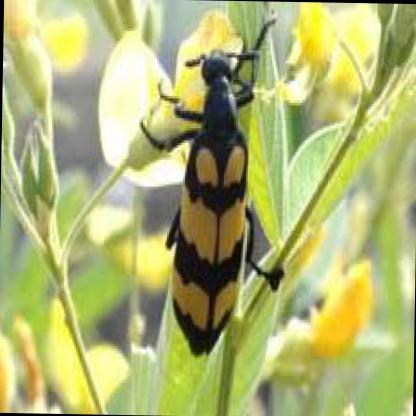blister beetle: (142, 55, 285, 363)
